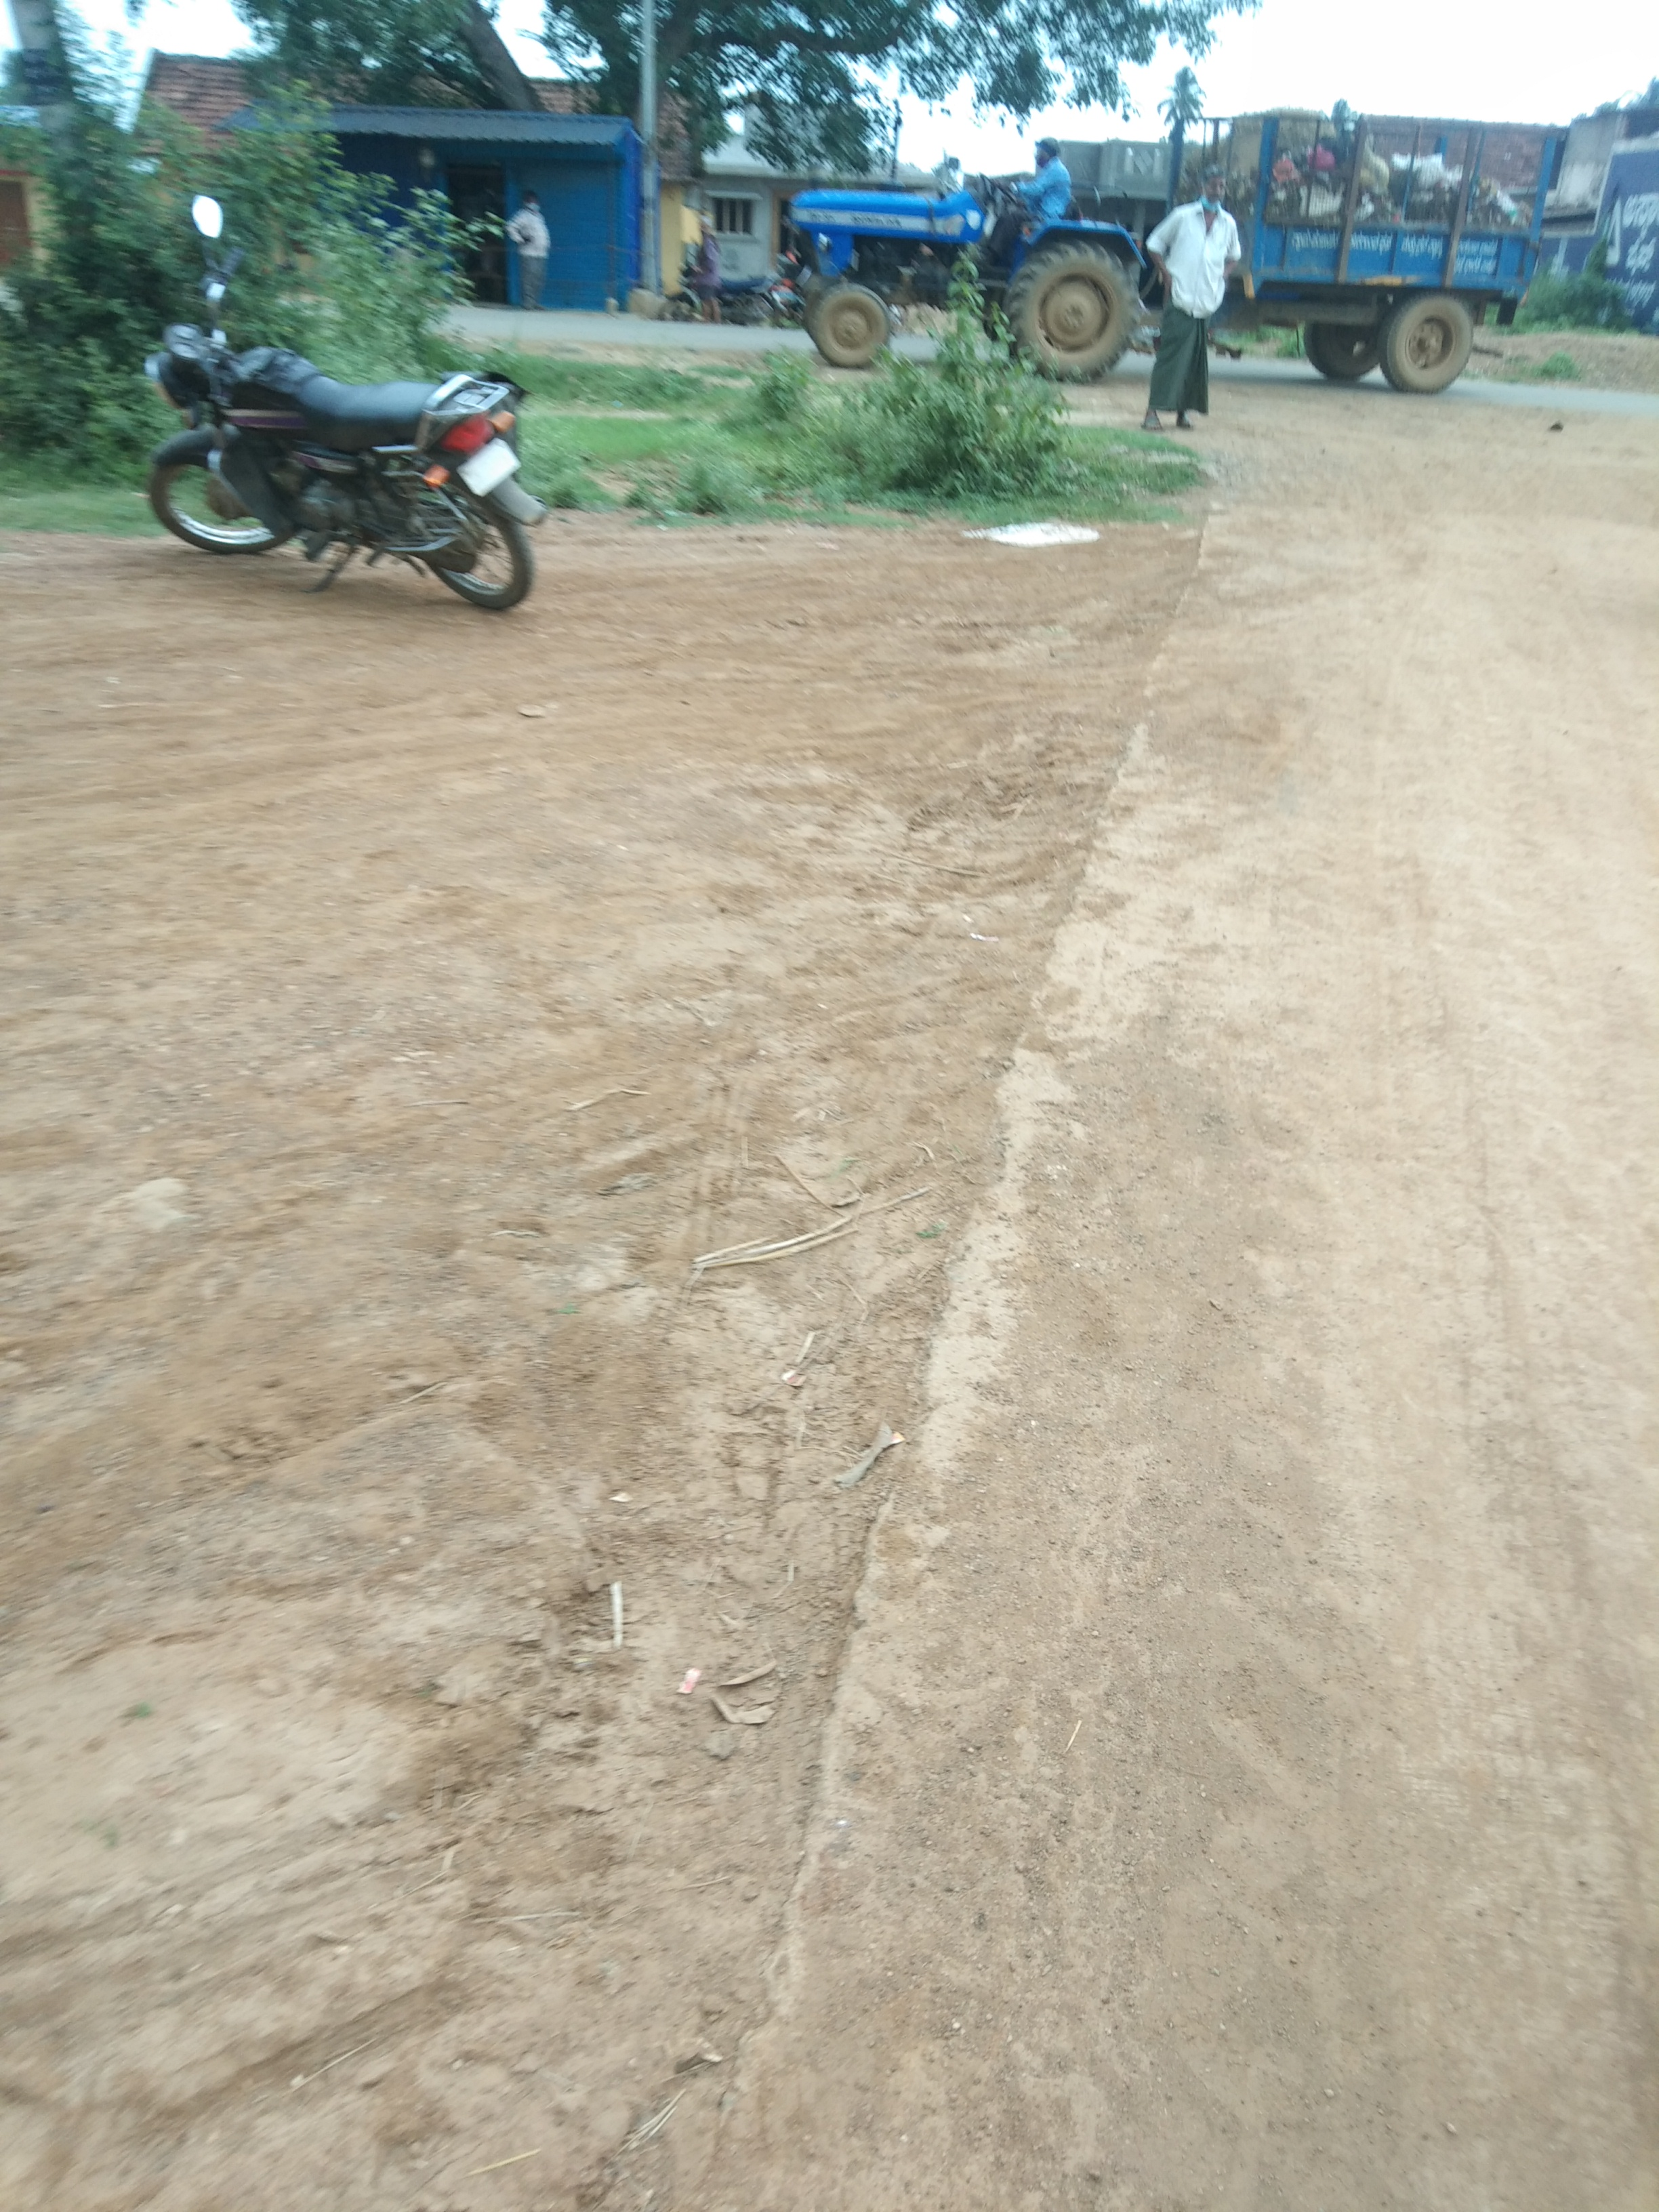tractor: (748, 110, 1570, 399)
